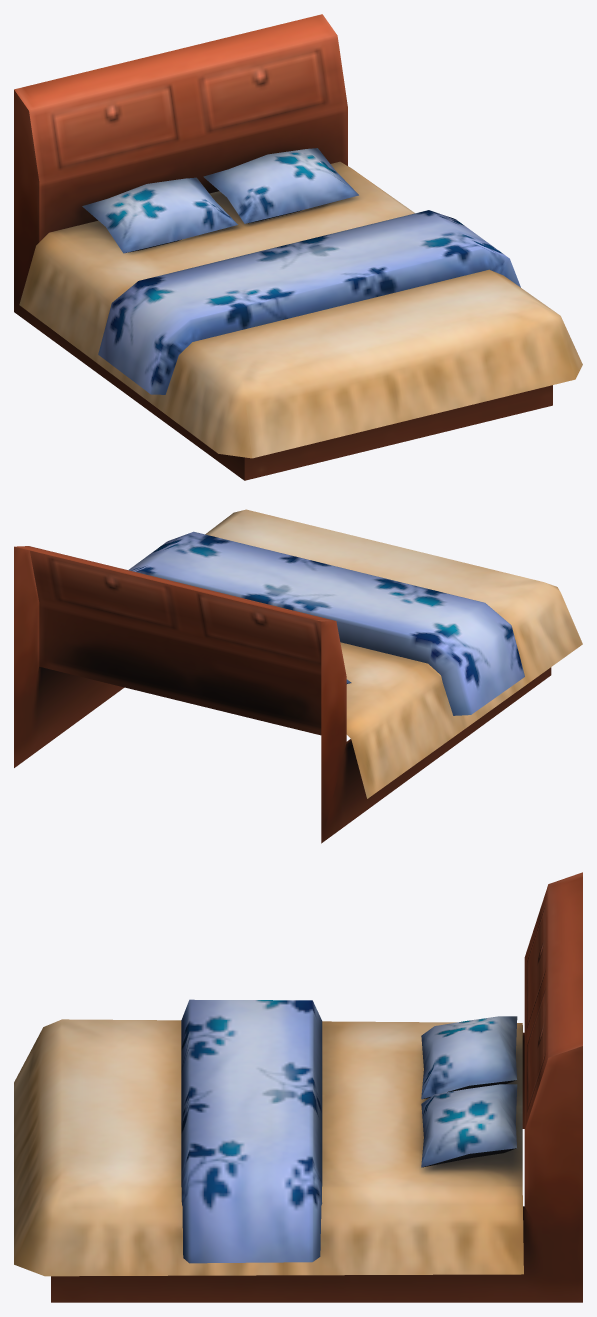
File: bed_01.DAE
3 views of the same model, one above another, from view 1: azimuth 30°, elevation 25°; view 2: azimuth 150°, elevation 25°; view 3: azimuth 270°, elevation 25° (orthographic). The views are drawn at different scales.
Parts seen in each view (by area): view 1: bed_01; view 2: bed_01; view 3: bed_01.
Part boxes in pixels (x1,y1,x2,y2): bed_01: (14, 14, 582, 480); bed_01: (14, 509, 582, 843); bed_01: (14, 872, 582, 1302).
Bounding box in the file's own units: 265 × 150 × 301.
1 material, 1 textured.
